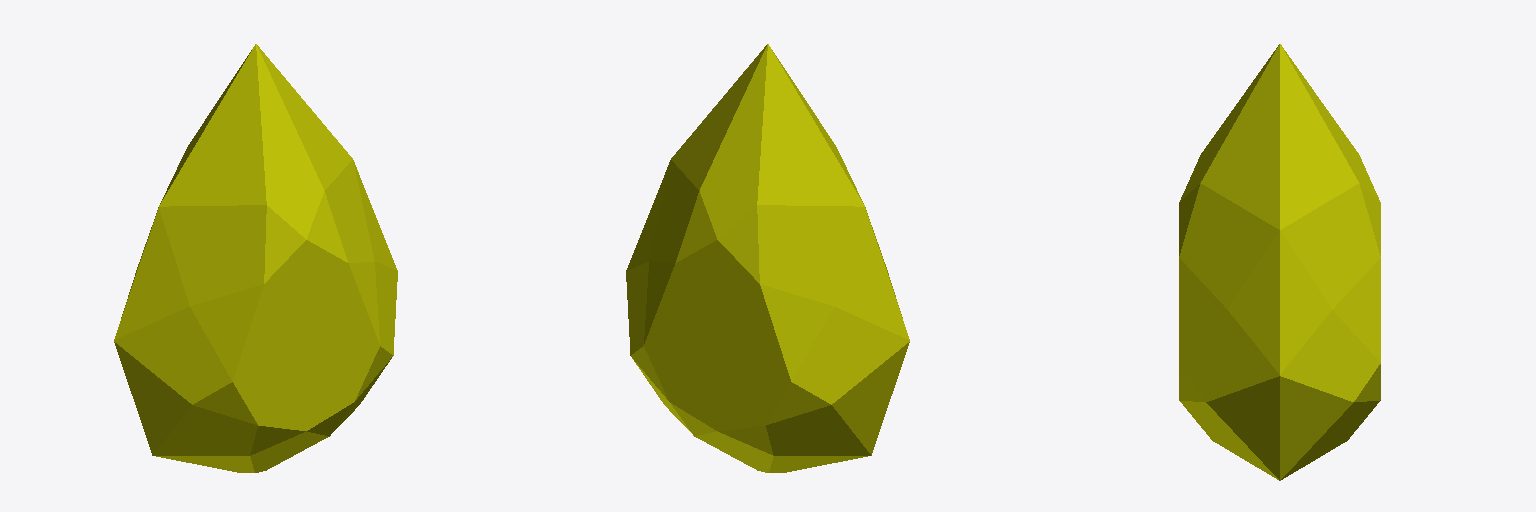
File: Gem.obj
The picture shows the model from 3 angles: view 1: azimuth 30°, elevation 25°; view 2: azimuth 150°, elevation 25°; view 3: azimuth 270°, elevation 25°; orthographic projection.
Parts seen in each view (by area): view 1: Gem_Shape002; view 2: Gem_Shape002; view 3: Gem_Shape002.
Boxes of the visible parts, box(x1,y1,x2,y2) form: Gem_Shape002: box(114, 44, 397, 472); Gem_Shape002: box(626, 44, 909, 472); Gem_Shape002: box(1179, 44, 1380, 480).
Bounding box in the file's own units: 0.7109 × 1.02 × 0.4371.